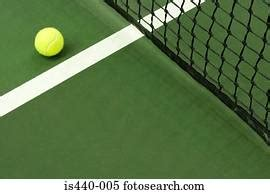tennis_ball: (34, 26, 65, 56)
